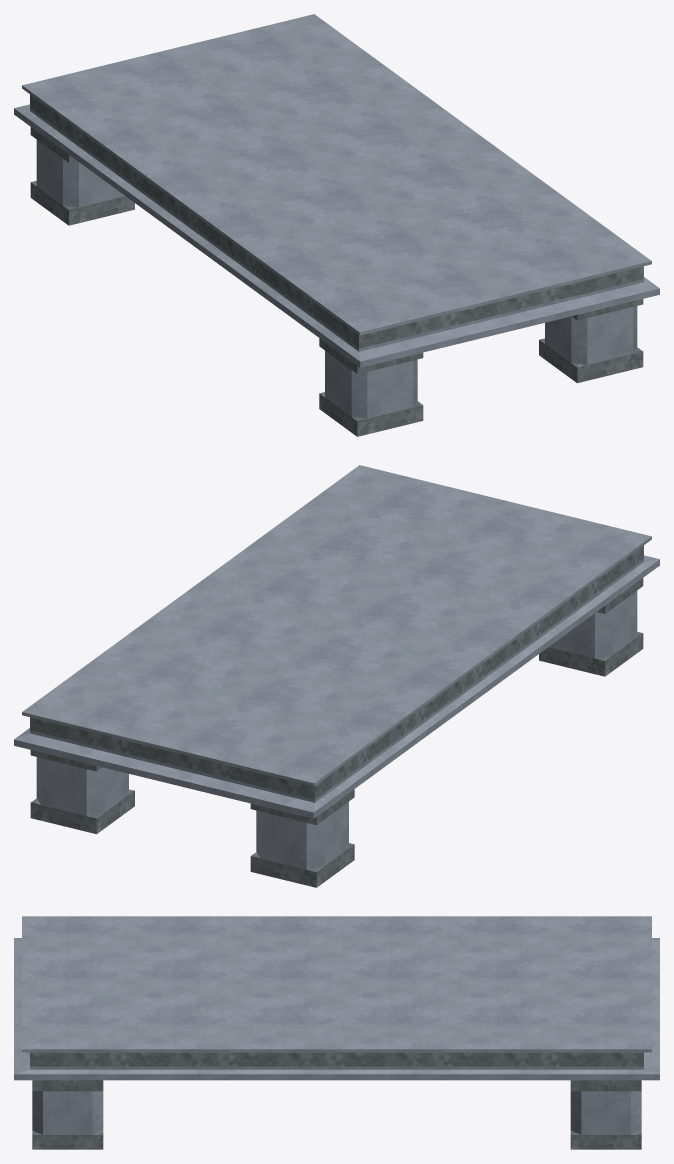
File: Grand_Table.fbx
3 renders of one model, top to bottom at view 1: azimuth 30°, elevation 25°; view 2: azimuth 150°, elevation 25°; view 3: azimuth 270°, elevation 25°, orthographic. The views are drawn at different scales.
Visible parts, largest first — view 1: floor_corner (×4), arch_horizontal_detail (×3); view 2: floor_corner (×4), arch_horizontal_detail (×3); view 3: floor_corner (×4), arch_horizontal_detail (×2).
Boxes of the visible parts, x1,y1,x2,y2 form: floor_corner (×4): (14, 14, 659, 367); arch_horizontal_detail (×3): (30, 127, 643, 436); floor_corner (×4): (14, 465, 659, 818); arch_horizontal_detail (×3): (30, 578, 643, 887); floor_corner (×4): (14, 916, 659, 1080); arch_horizontal_detail (×2): (32, 1080, 641, 1149).
Bounding box in the file's own units: 30 × 10.45 × 60.
